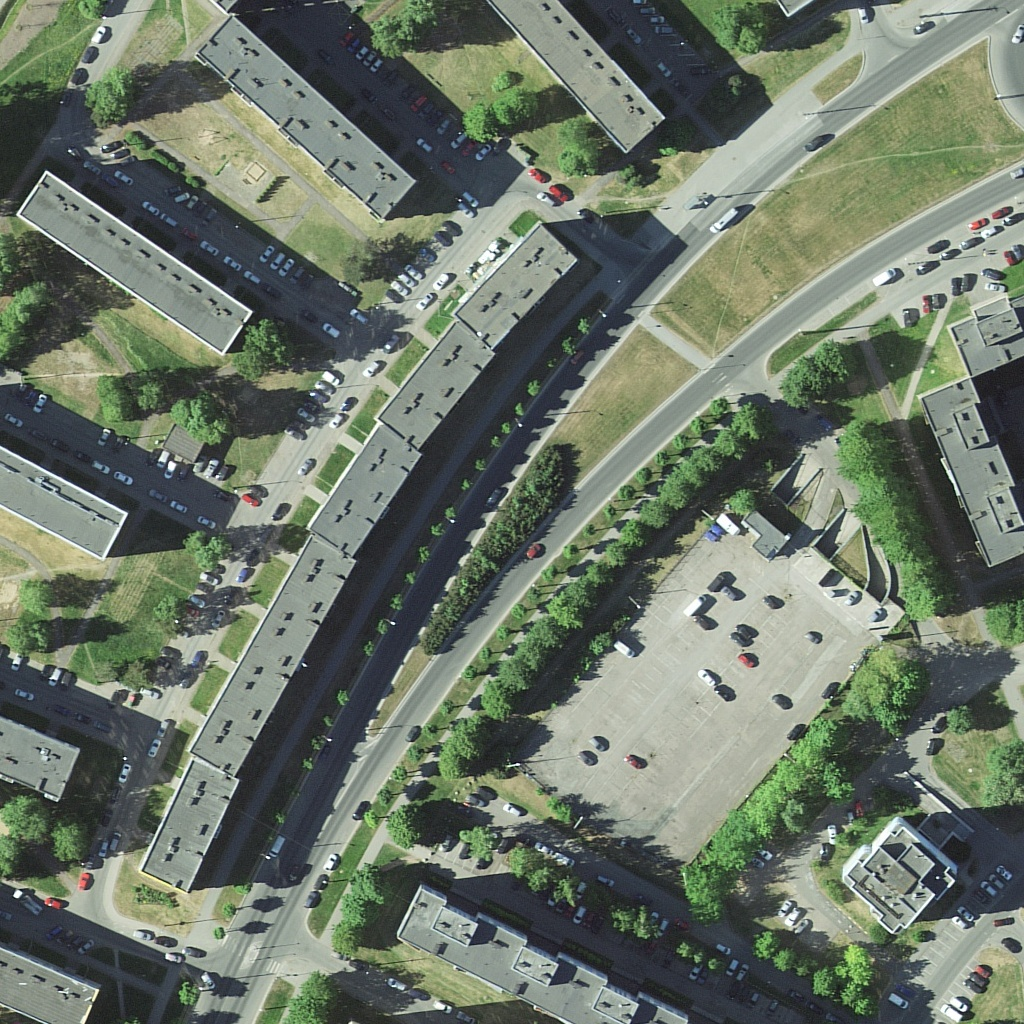building: (16, 165, 258, 356), (191, 16, 416, 219), (195, 529, 358, 783), (396, 888, 676, 1024), (471, 1, 667, 153), (917, 379, 1024, 565), (302, 421, 424, 556), (378, 318, 498, 450), (455, 221, 578, 348), (1, 446, 131, 559), (143, 759, 245, 898), (840, 818, 956, 938), (4, 935, 102, 1024), (1, 719, 84, 798)
